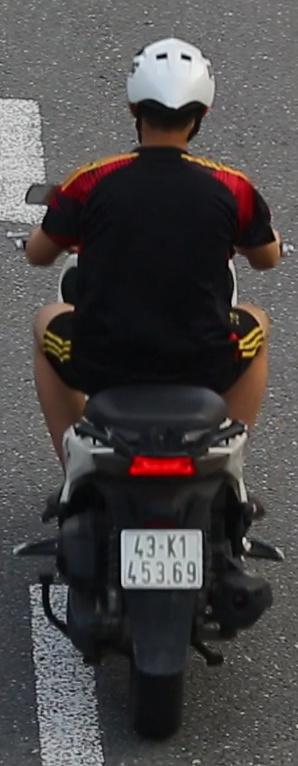LP: (116, 524, 206, 596)
helmet: (123, 32, 218, 162)
